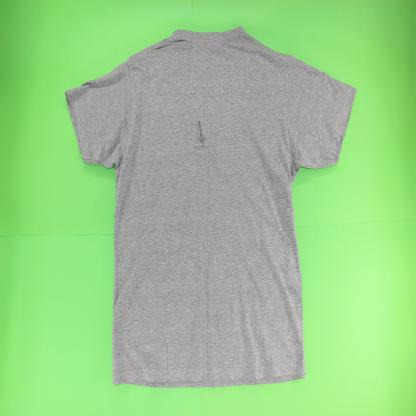hole: (197, 118, 207, 150)
